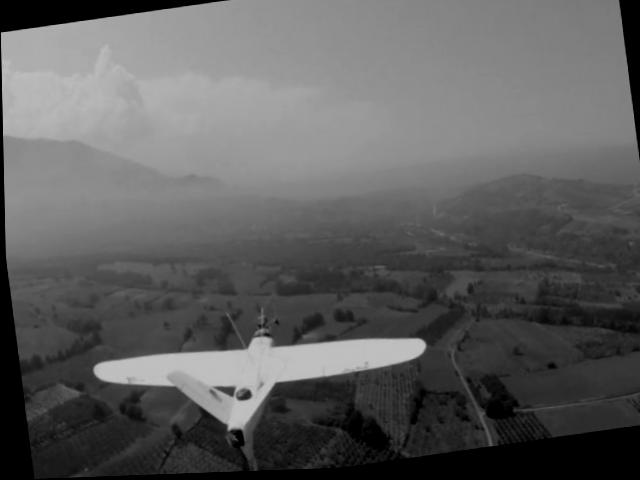hedef: (78, 269, 437, 478)
